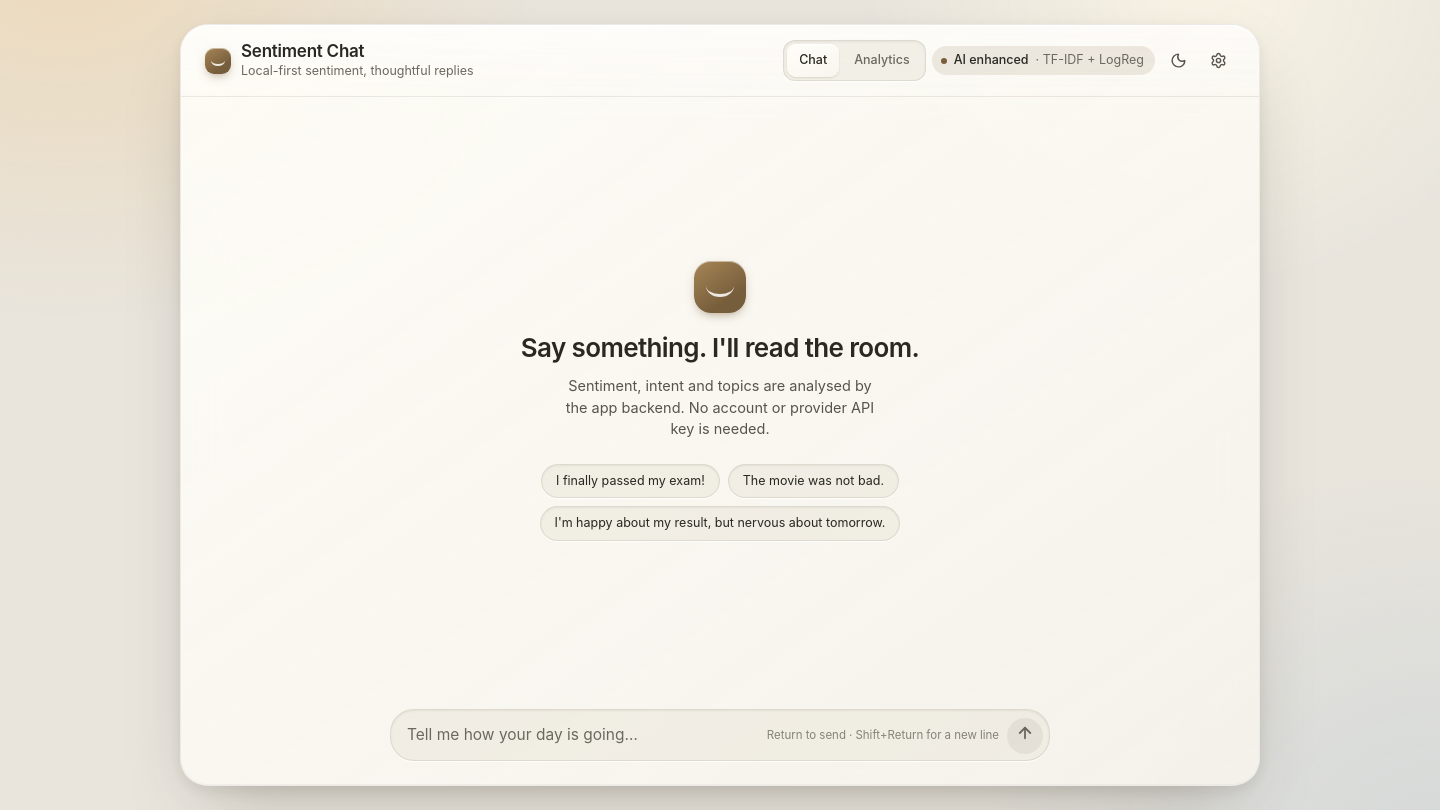
provider test button reports connection result
This screenshot has width=1440, height=810.
Expected: the message named "Active mode: AI enhanced" is shown, [932,46,1155,75]
Step 1. Click the button named "Open settings" → (1218, 61), box [1201,44,1235,78]
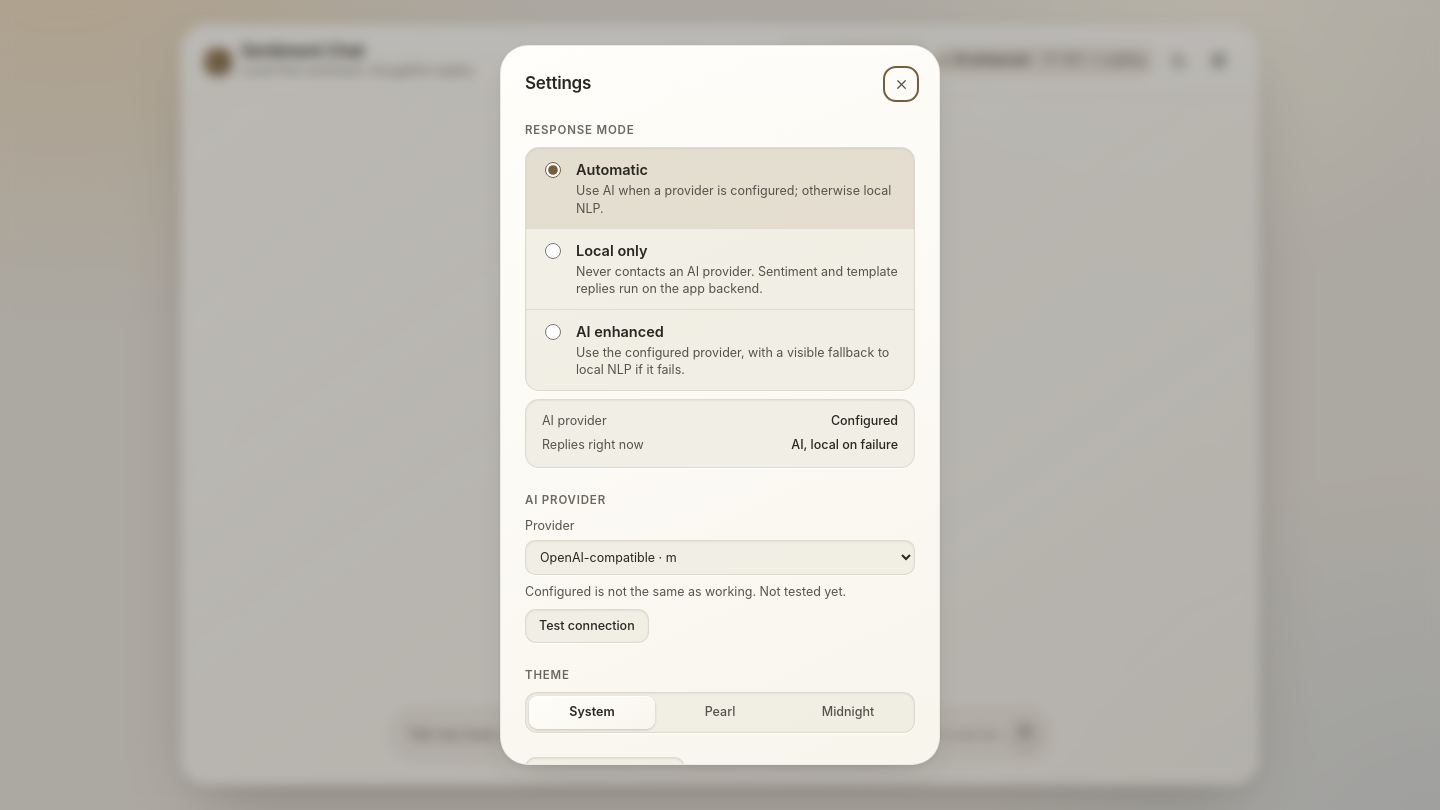
Step 2. Click the button "Test connection" → (587, 626), box [525,609,649,643]
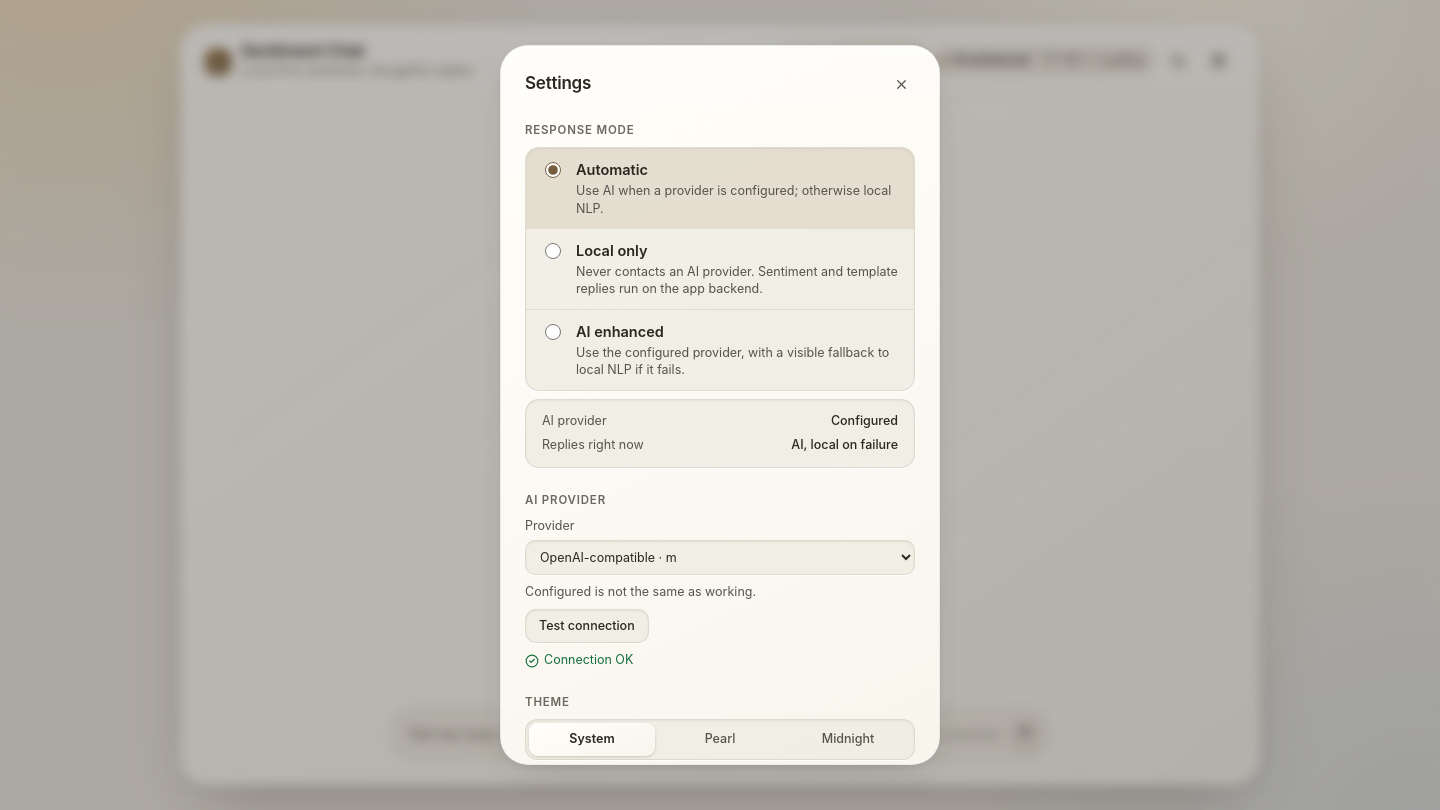
Expected: the text "Connection OK" is shown, [525,652,633,668]
